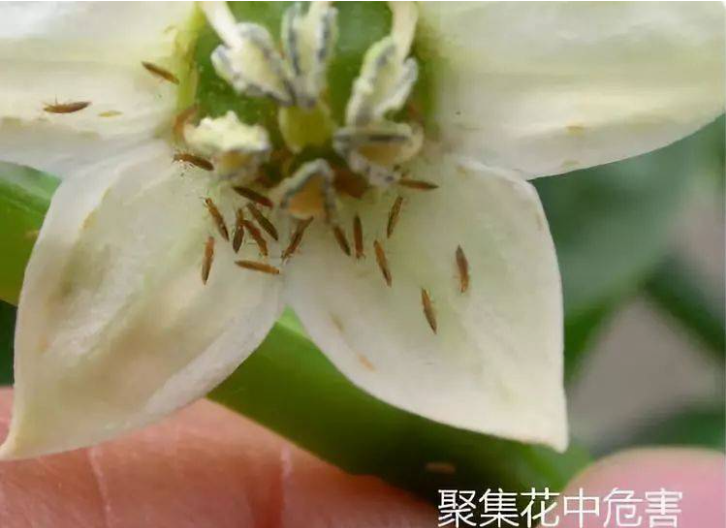thrips: (201, 197, 231, 242), (246, 202, 278, 242), (286, 213, 313, 258), (243, 218, 270, 258), (230, 182, 275, 206), (372, 239, 394, 288), (453, 243, 472, 294), (171, 150, 215, 172), (139, 61, 181, 83), (382, 193, 401, 240), (350, 213, 368, 262), (420, 285, 439, 331), (39, 96, 96, 111), (395, 174, 438, 193), (198, 235, 214, 286), (236, 258, 282, 275), (332, 222, 350, 259), (232, 207, 245, 253)
